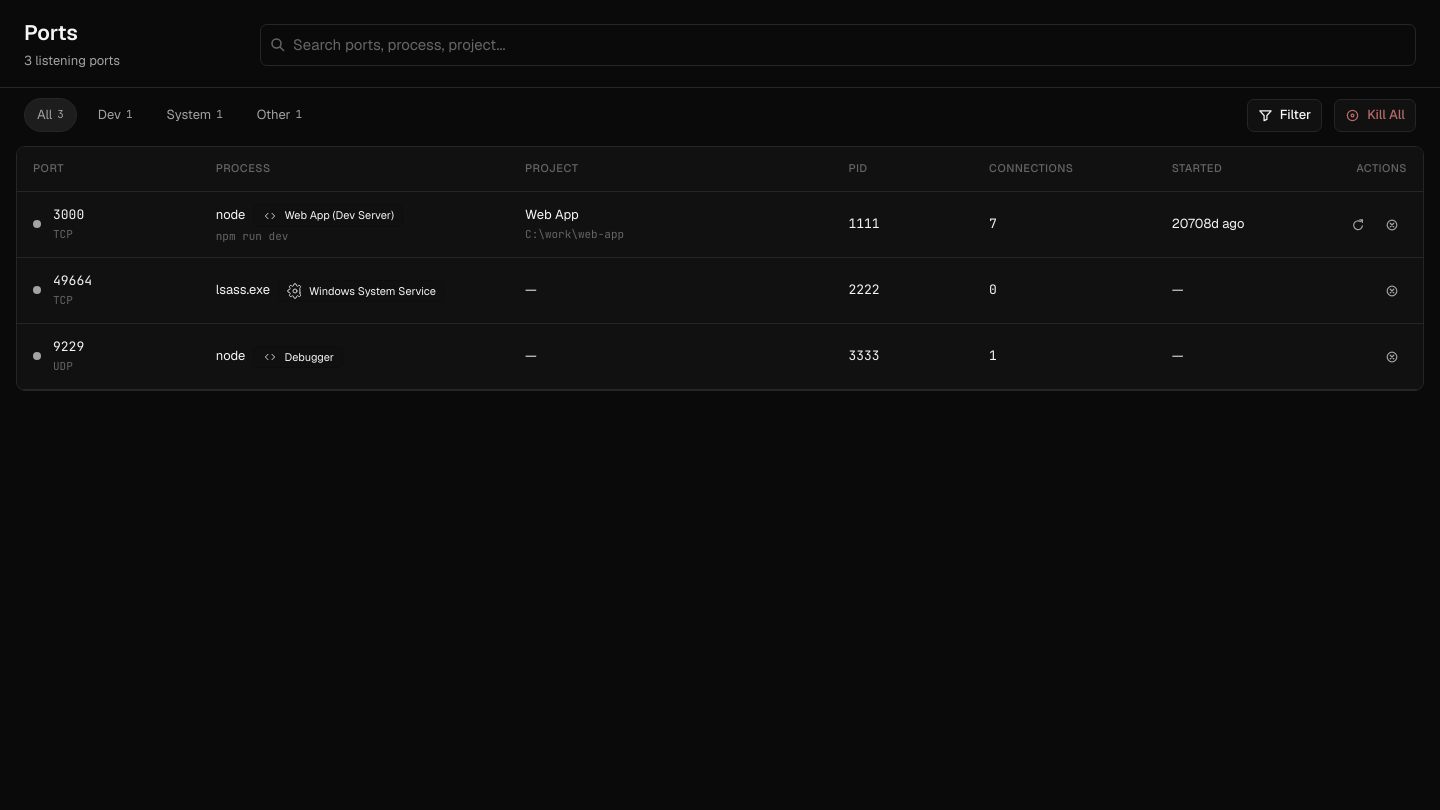
Test: PortsPage › discloses that the kill does not reach child processes
Click the button named "Kill port 3000": (1392, 224) x1=1377 y1=208 x2=1407 y2=240
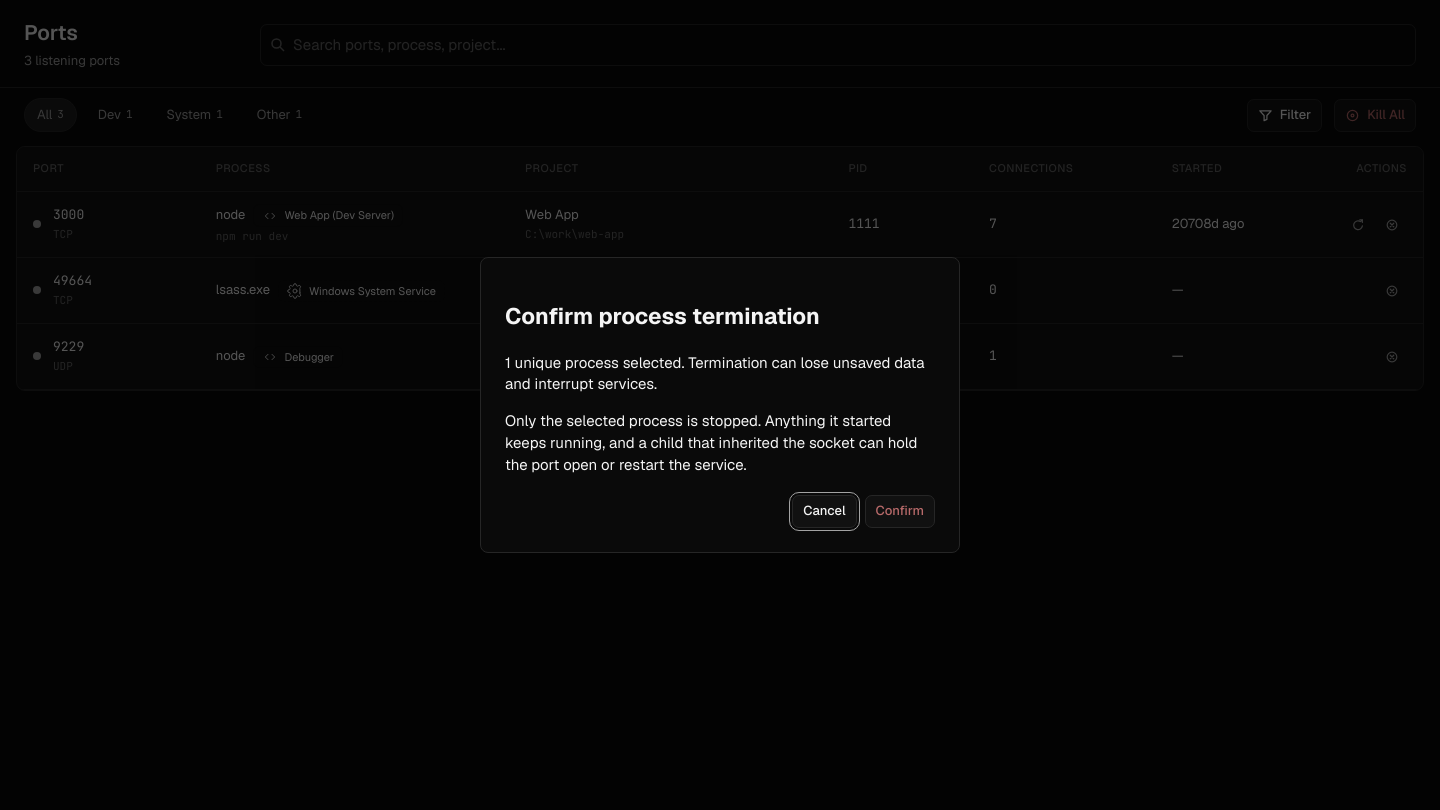
Expected: the text "hold the port open or restart the service" is shown, x1=505 y1=411 x2=918 y2=474
Expected: the text "1 unique process selected." is shown, x1=505 y1=352 x2=935 y2=395
